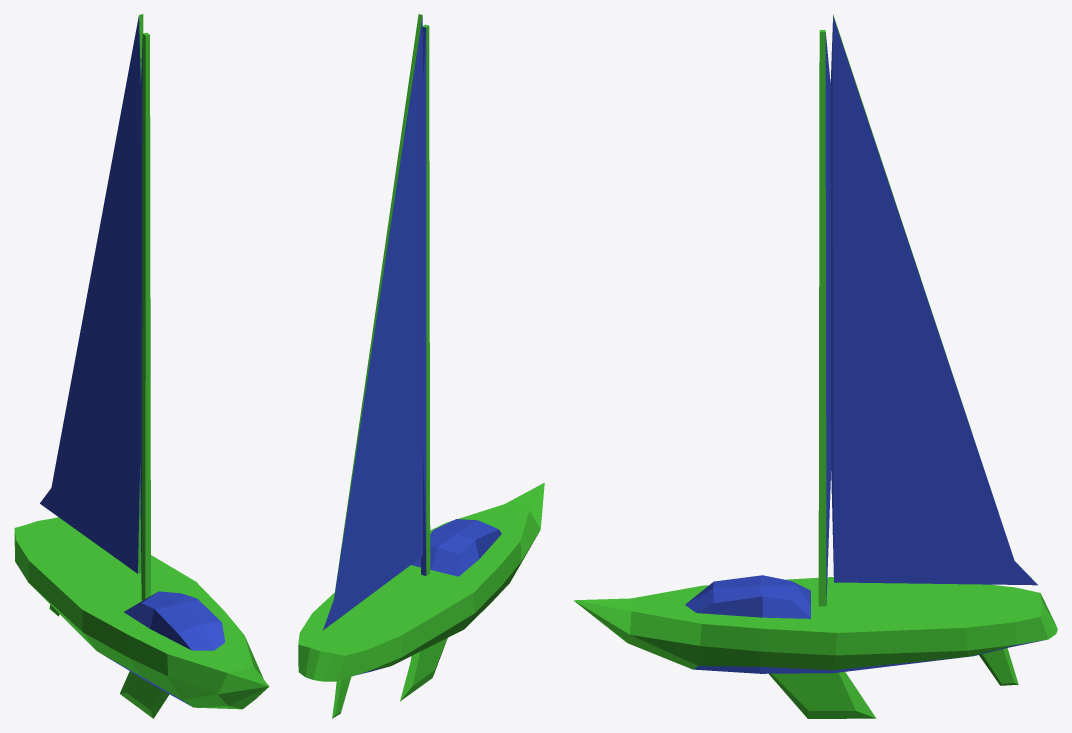
File: sailboat.obj
3 views of the same model, side by side, from view 1: azimuth 30°, elevation 25°; view 2: azimuth 150°, elevation 25°; view 3: azimuth 270°, elevation 25° (orthographic). The views are drawn at different scales.
Parts seen in each view (by area): view 1: sailboat_Cube.003; view 2: sailboat_Cube.003; view 3: sailboat_Cube.003.
Part boxes in pixels (box(x1,y1,x2,y2)): sailboat_Cube.003: box(14, 14, 269, 718); sailboat_Cube.003: box(298, 14, 544, 718); sailboat_Cube.003: box(573, 14, 1057, 718).
Size of the model in its own units: 0.8821 by 5.14 by 3.21.
